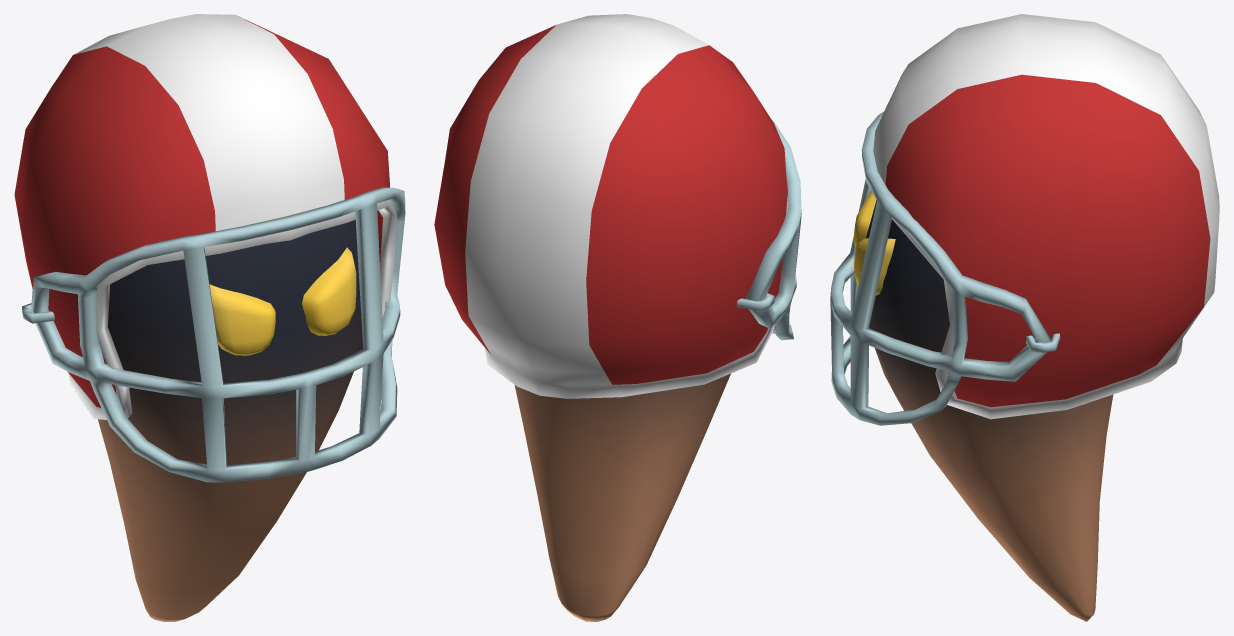
File: chuot.fbx
The picture shows the model from 3 angles, left to right: view 1: azimuth 30°, elevation 25°; view 2: azimuth 150°, elevation 25°; view 3: azimuth 270°, elevation 25°; orthographic projection. The views are drawn at different scales.
Parts seen in each view (by area): view 1: chuot; view 2: chuot; view 3: chuot.
Part boxes in pixels (<box>): chuot: <box>14,14,405,621</box>; chuot: <box>434,14,801,621</box>; chuot: <box>830,14,1219,621</box>.
Size of the model in its own units: 121 by 201 by 121.
Materials: 1 (1 with a texture image).
